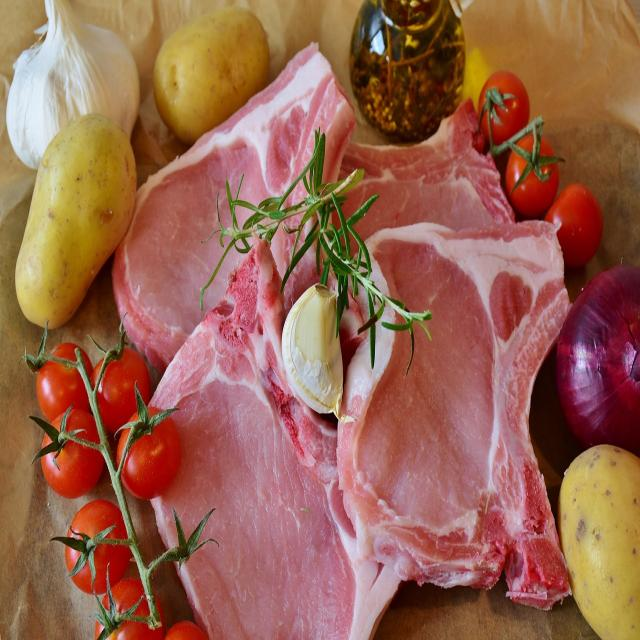garlic: (6, 1, 142, 171), (282, 285, 346, 423)
onion: (564, 263, 640, 450)
potato: (16, 113, 138, 336), (151, 5, 275, 147), (559, 443, 640, 640)
tomato: (63, 503, 132, 592), (117, 409, 183, 499), (42, 413, 103, 502), (97, 337, 148, 437), (36, 340, 98, 421), (507, 130, 560, 217), (93, 576, 163, 640), (554, 183, 604, 267), (478, 71, 529, 146)
